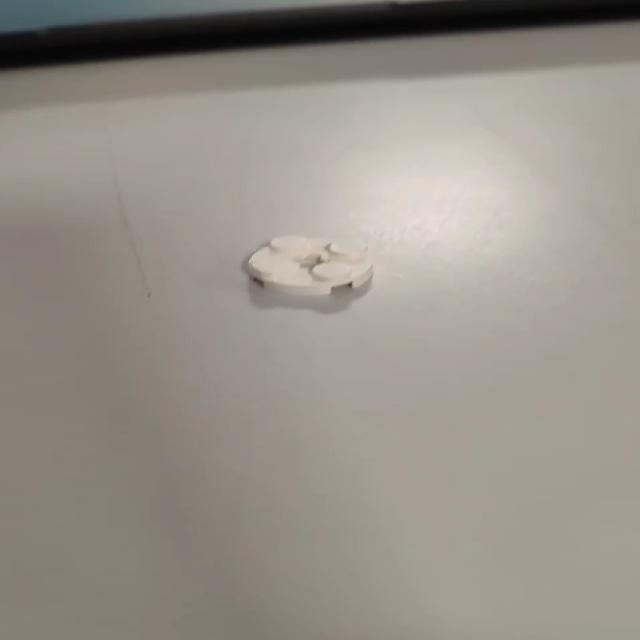S2x2x0: (242, 233, 374, 296)
